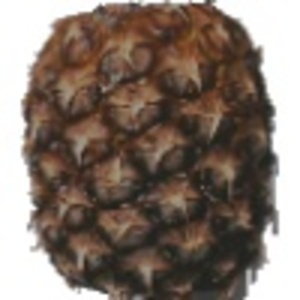abacaxi: (16, 3, 283, 293)
